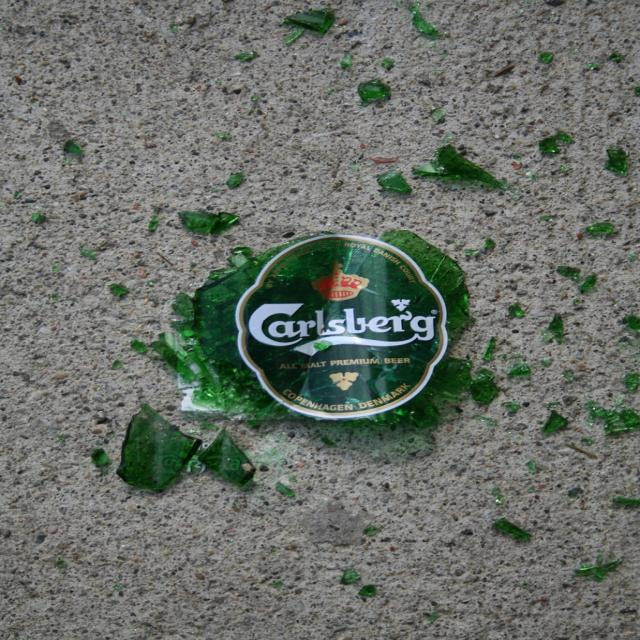carlsberg: (235, 232, 448, 424)
